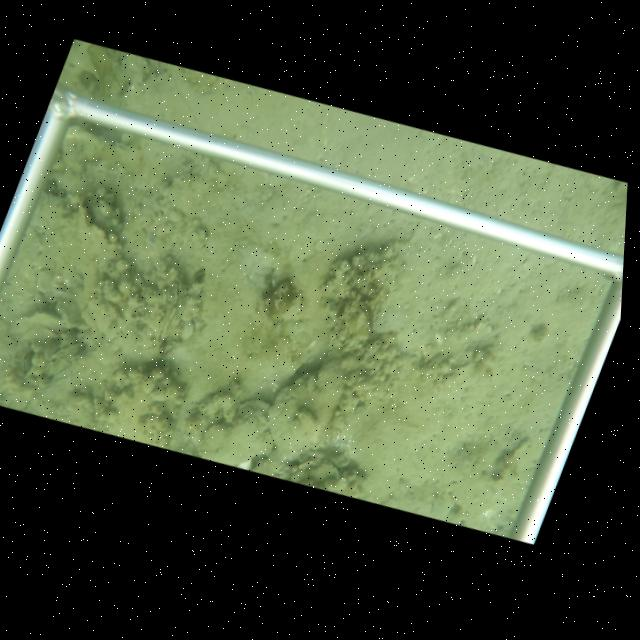Oyster-Closed: (197, 399, 274, 466), (74, 200, 123, 256), (153, 279, 184, 349), (11, 308, 86, 335), (41, 337, 57, 360), (18, 350, 33, 373)
Oyster-Indeterminate: (272, 358, 345, 455)
